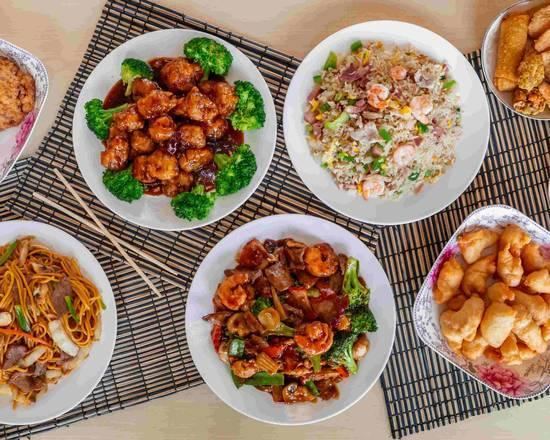Braised Crucian Carp: (183, 213, 393, 427), (282, 18, 487, 227), (71, 26, 271, 231), (411, 205, 550, 403), (0, 219, 118, 426)
